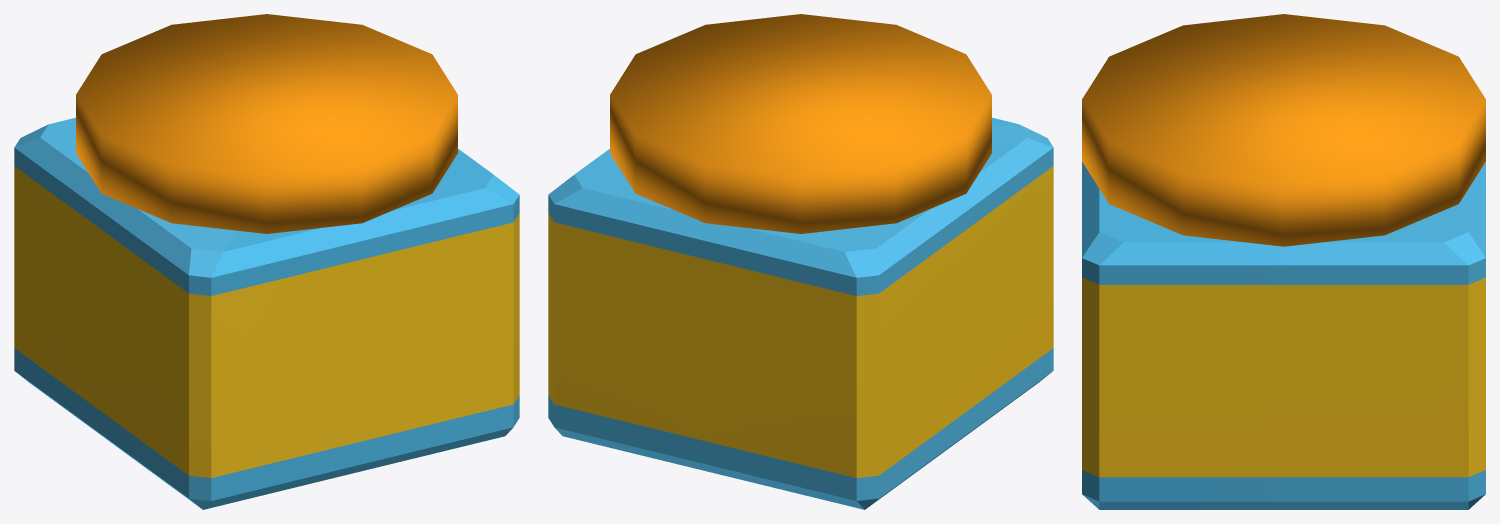
Rendered from yellow_jar.glb.
3 renders of one model, left to right at view 1: azimuth 30°, elevation 25°; view 2: azimuth 150°, elevation 25°; view 3: azimuth 270°, elevation 25°, orthographic. The views are drawn at different scales.
Visible parts, largest first — view 1: Yellow_Jar; view 2: Yellow_Jar; view 3: Yellow_Jar.
Boxes of the visible parts, box(x1,y1,x2,y2) form: Yellow_Jar: box(14, 14, 519, 509); Yellow_Jar: box(548, 14, 1053, 509); Yellow_Jar: box(1082, 14, 1485, 509).
Size of the model in its own units: 0.3672 by 0.3337 by 0.3672.
1 material, 1 textured.
